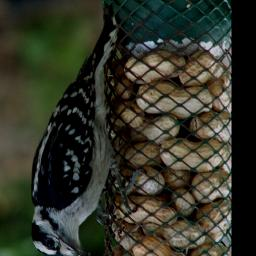Woodpecker: (16, 7, 140, 256)
